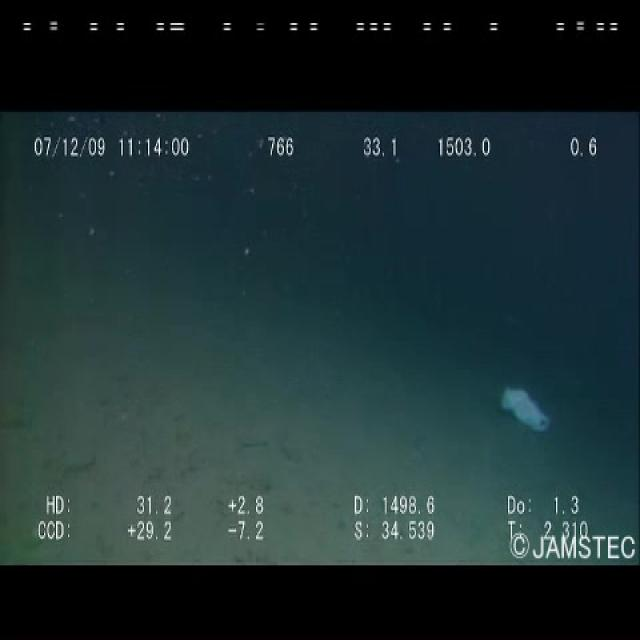plastic: (496, 373, 557, 450)
